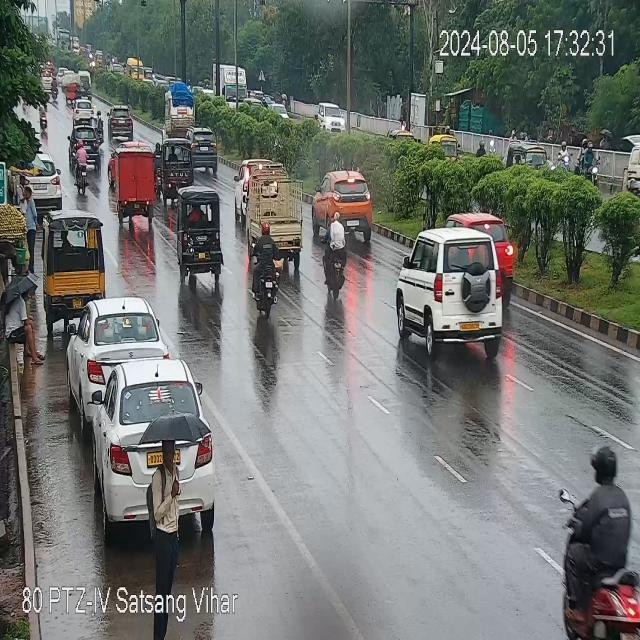2-wheelers: (563, 442, 640, 640), (251, 229, 286, 311), (561, 138, 600, 174), (106, 104, 132, 139), (76, 140, 88, 195), (154, 142, 162, 198), (38, 102, 48, 128), (96, 111, 104, 142), (52, 76, 58, 102)
auto: (44, 214, 107, 308), (172, 190, 226, 284), (112, 150, 160, 218), (161, 141, 199, 178), (432, 133, 461, 157), (510, 144, 543, 165)
car: (95, 353, 216, 532), (396, 233, 508, 345), (71, 299, 163, 397), (319, 172, 379, 240), (34, 152, 63, 212), (68, 124, 102, 172), (194, 126, 216, 174), (319, 101, 344, 133), (74, 101, 95, 125), (80, 71, 93, 99)
pedestrian: (152, 439, 185, 589), (6, 294, 45, 362), (25, 186, 36, 272), (18, 175, 24, 205)
truck: (243, 163, 310, 260), (161, 90, 194, 140)
